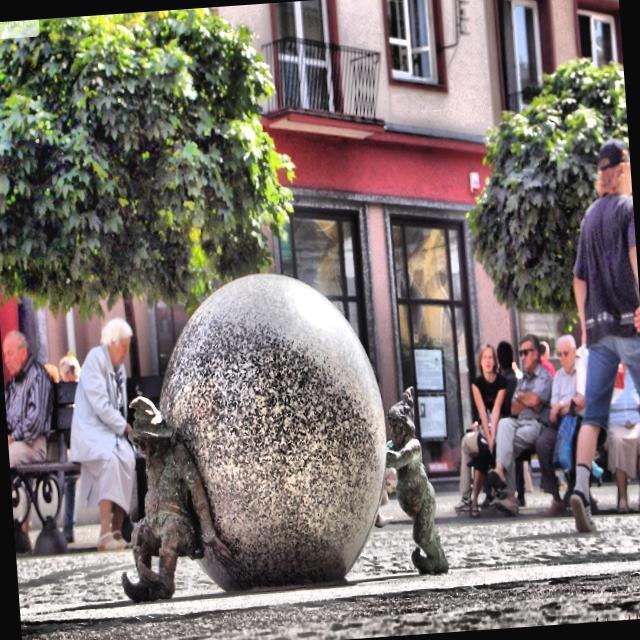Syzyfki: (112, 269, 461, 611)
